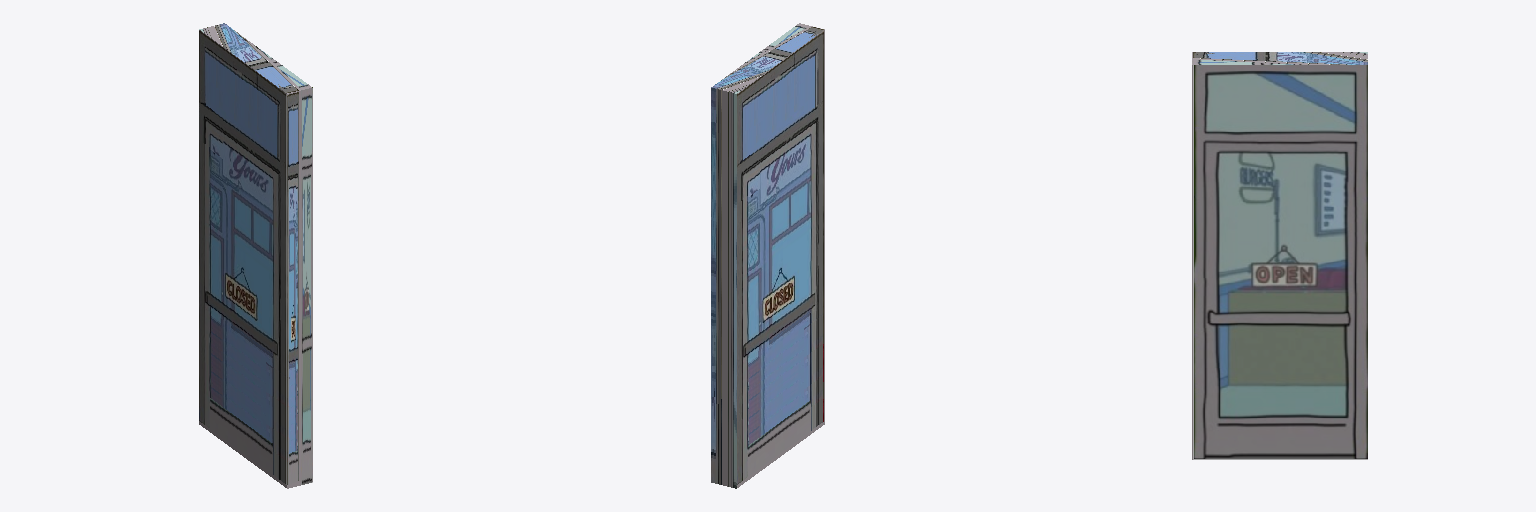
3 renders of one model, left to right at view 1: azimuth 30°, elevation 25°; view 2: azimuth 150°, elevation 25°; view 3: azimuth 270°, elevation 25°, orthographic.
Visible parts, largest first — view 1: puertaentrada:pCube1; view 2: puertaentrada:pCube1; view 3: puertaentrada:pCube1.
Part boxes in pixels (x1,y1,x2,y2): puertaentrada:pCube1: (199, 23, 312, 488); puertaentrada:pCube1: (711, 23, 824, 488); puertaentrada:pCube1: (1192, 52, 1367, 459).
Bounding box in the file's own units: 0.3918 × 5.77 × 2.33.
1 materials, 1 textured.